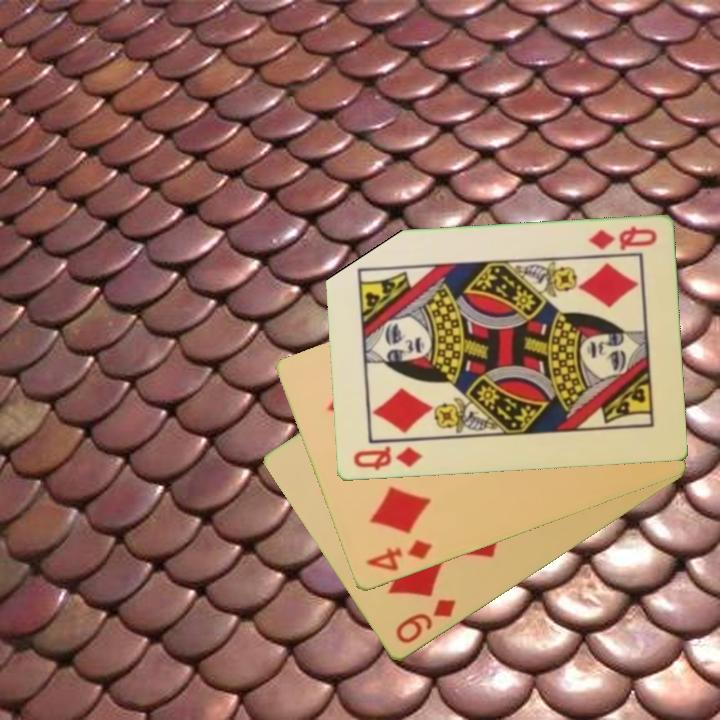4d: (362, 536, 435, 575)
9d: (391, 596, 459, 648)
Qd: (349, 442, 425, 474), (585, 223, 660, 254)
